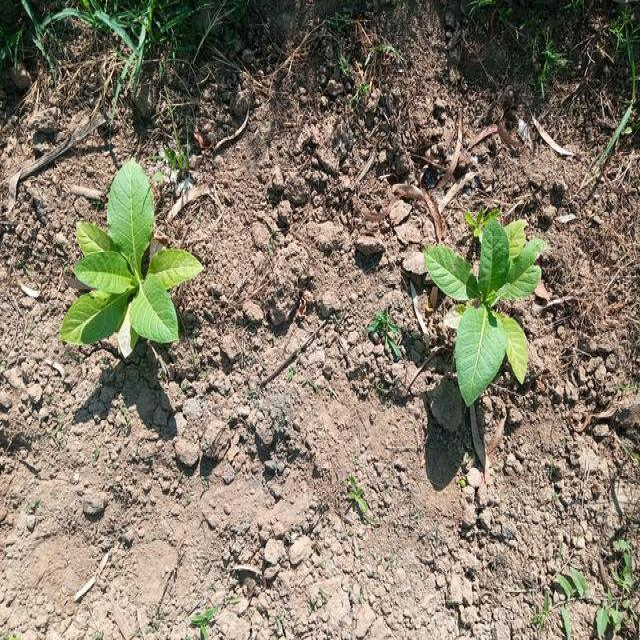crop: (62, 154, 204, 362), (429, 207, 549, 411)
